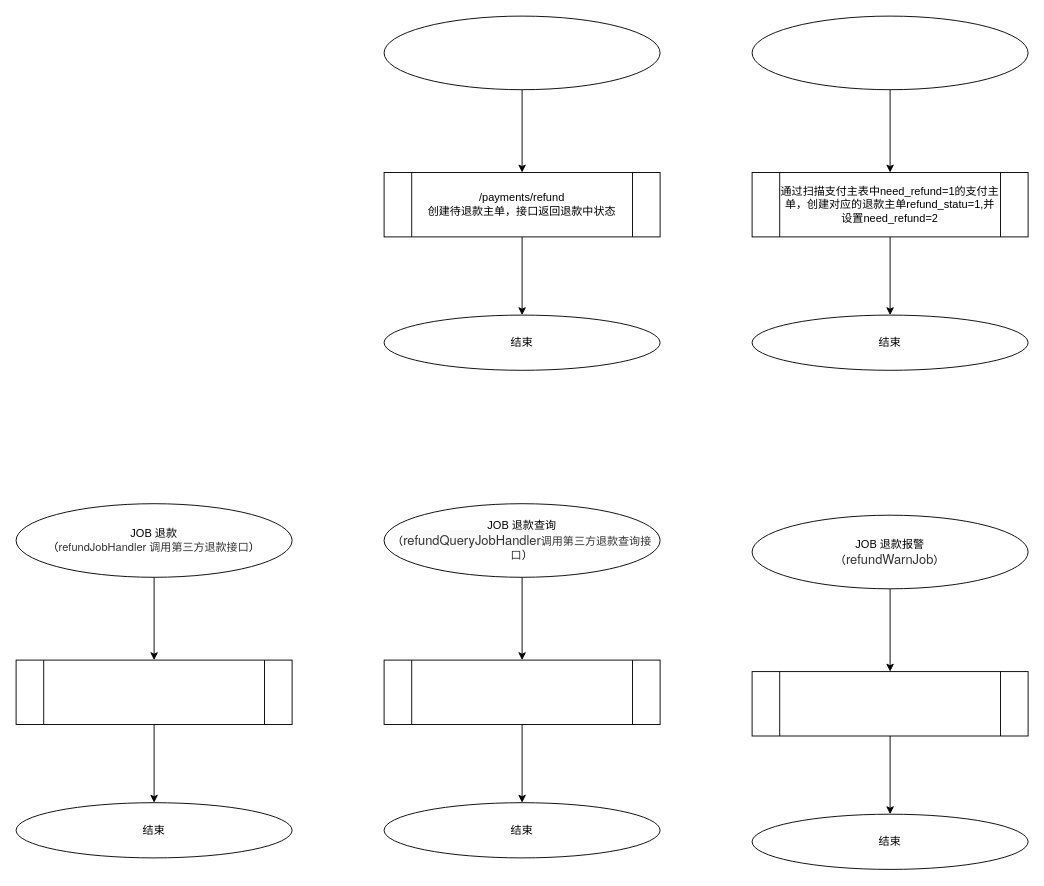
Image size: 1044x886. Some labels were removed from this diagram. The shapes that lost their labels are listed below. From the top down, each one's box as (x1, y1, x2, y2) in pixels, then its label:
(383, 15, 660, 90): Api 退款（外部接口，主动退款）
(751, 15, 1028, 90): JOB 支付异常/溢缴 退款 （ waitRefundJobHandler ）
(15, 659, 292, 724): 通过扫描退款主表中的refund_status=1(待退款)主单，执行退款操作，成功后设置refund_status = 2(退款中)
(383, 659, 660, 724): 通过扫描退款主表中的refund_status=2(退款中)主单，执行退款查询操作，成功后设置refund_status = 3(退款成功)
(751, 671, 1028, 736): 通过扫描退款主表中体insert_time >五分钟 && refund_status=2(退款中)的退款单，进行钉钉和邮箱报警
